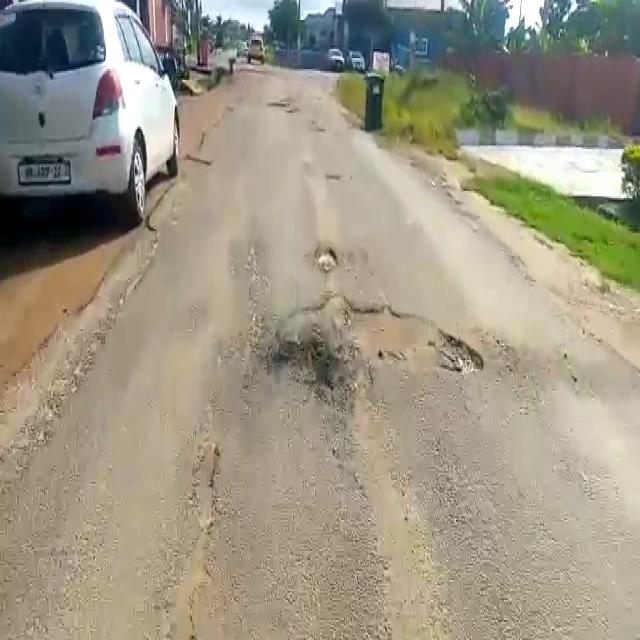Pothole: (291, 296, 488, 388), (313, 246, 344, 272)
